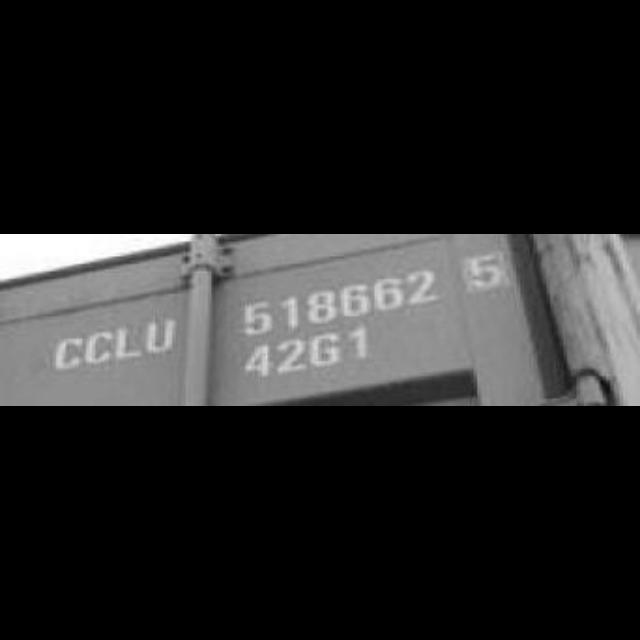1: (345, 322, 375, 366), (279, 292, 303, 332)
2: (276, 335, 312, 381), (404, 268, 444, 304)
4: (246, 341, 276, 383)
5: (240, 298, 274, 338), (468, 251, 502, 291)
6: (338, 280, 372, 324), (374, 274, 404, 312)
8: (306, 286, 338, 330)
c: (55, 332, 85, 372), (85, 327, 113, 368)
g: (310, 330, 340, 368)
l: (114, 323, 144, 361)
u: (146, 316, 178, 358)
